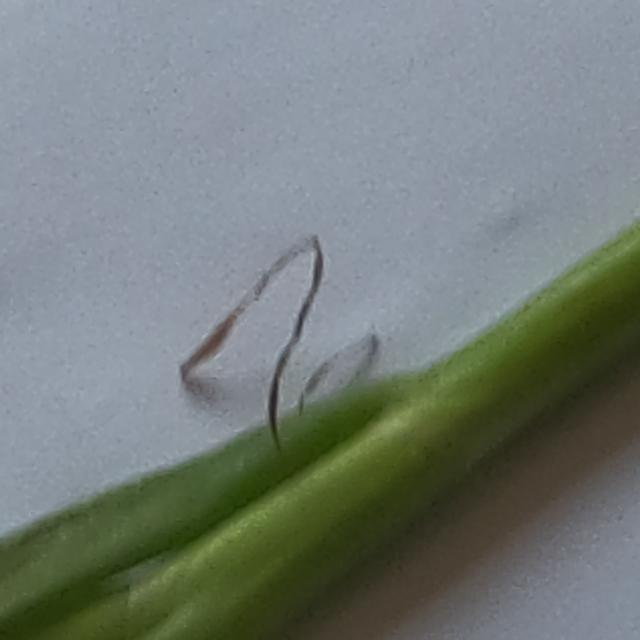green_onion: (0, 222, 640, 640)
